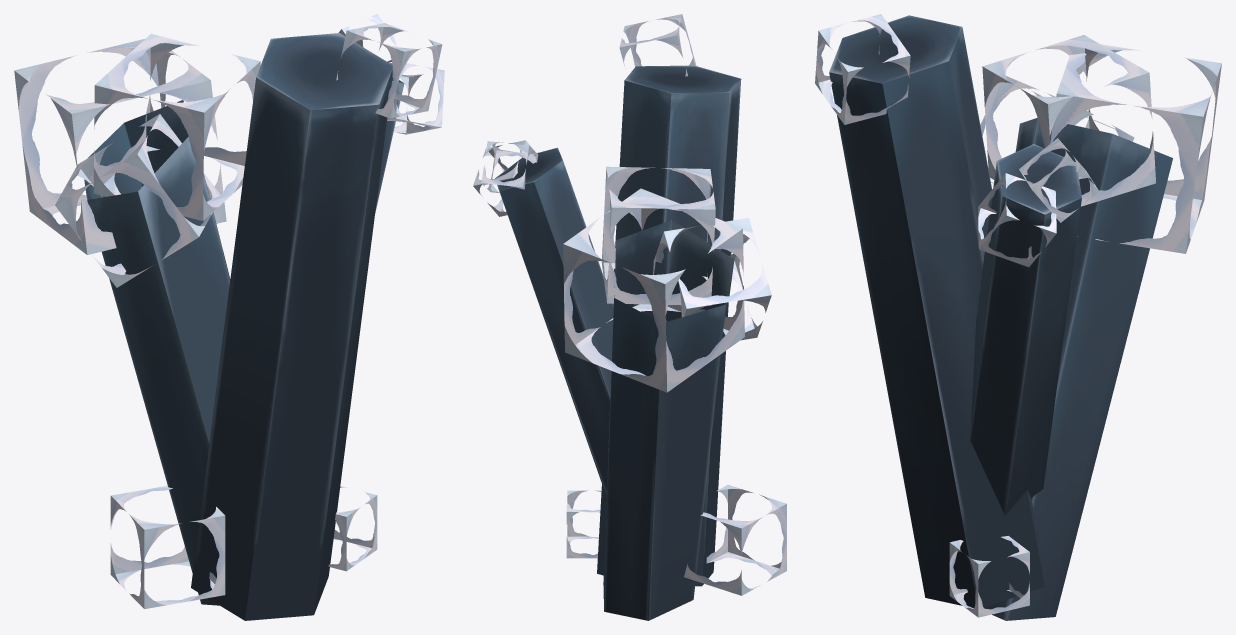
The model's file is HexCave_Structure_002.fbx.
The picture shows the model from 3 angles, left to right: view 1: azimuth 30°, elevation 25°; view 2: azimuth 150°, elevation 25°; view 3: azimuth 270°, elevation 25°; orthographic projection. The views are drawn at different scales.
Visible parts, largest first — view 1: HexCave_Structure.002; view 2: HexCave_Structure.002; view 3: HexCave_Structure.002.
Part boxes in pixels (x1=…): HexCave_Structure.002: x1=14, y1=14, x2=444, y2=620; HexCave_Structure.002: x1=473, y1=14, x2=786, y2=620; HexCave_Structure.002: x1=815, y1=14, x2=1221, y2=620.
Bounding box in the file's own units: 186 × 301 × 184.
Materials: 1 (1 with a texture image).
